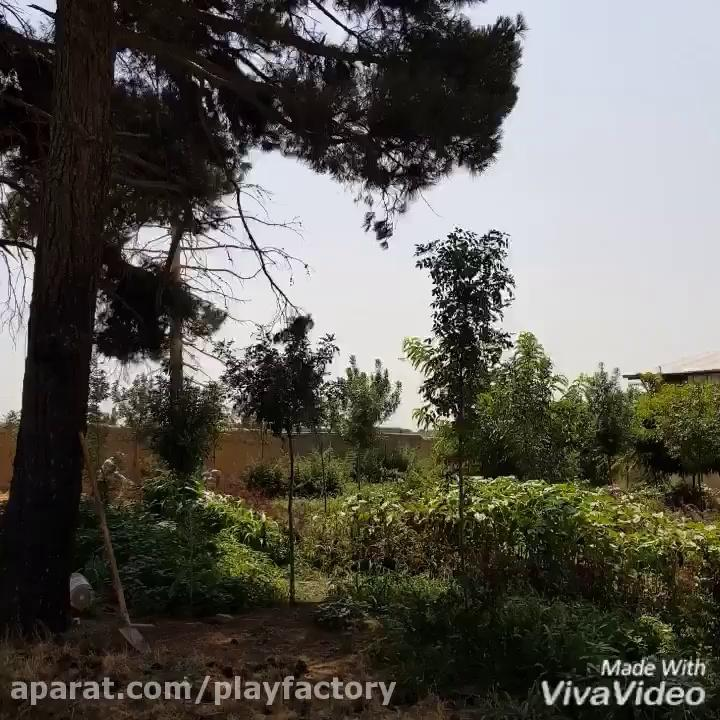drone: (393, 353, 407, 362)
